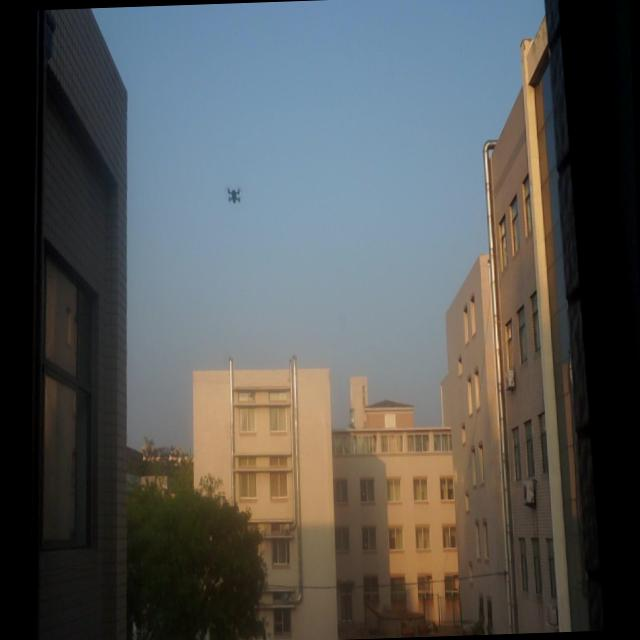drone: (225, 184, 242, 206)
